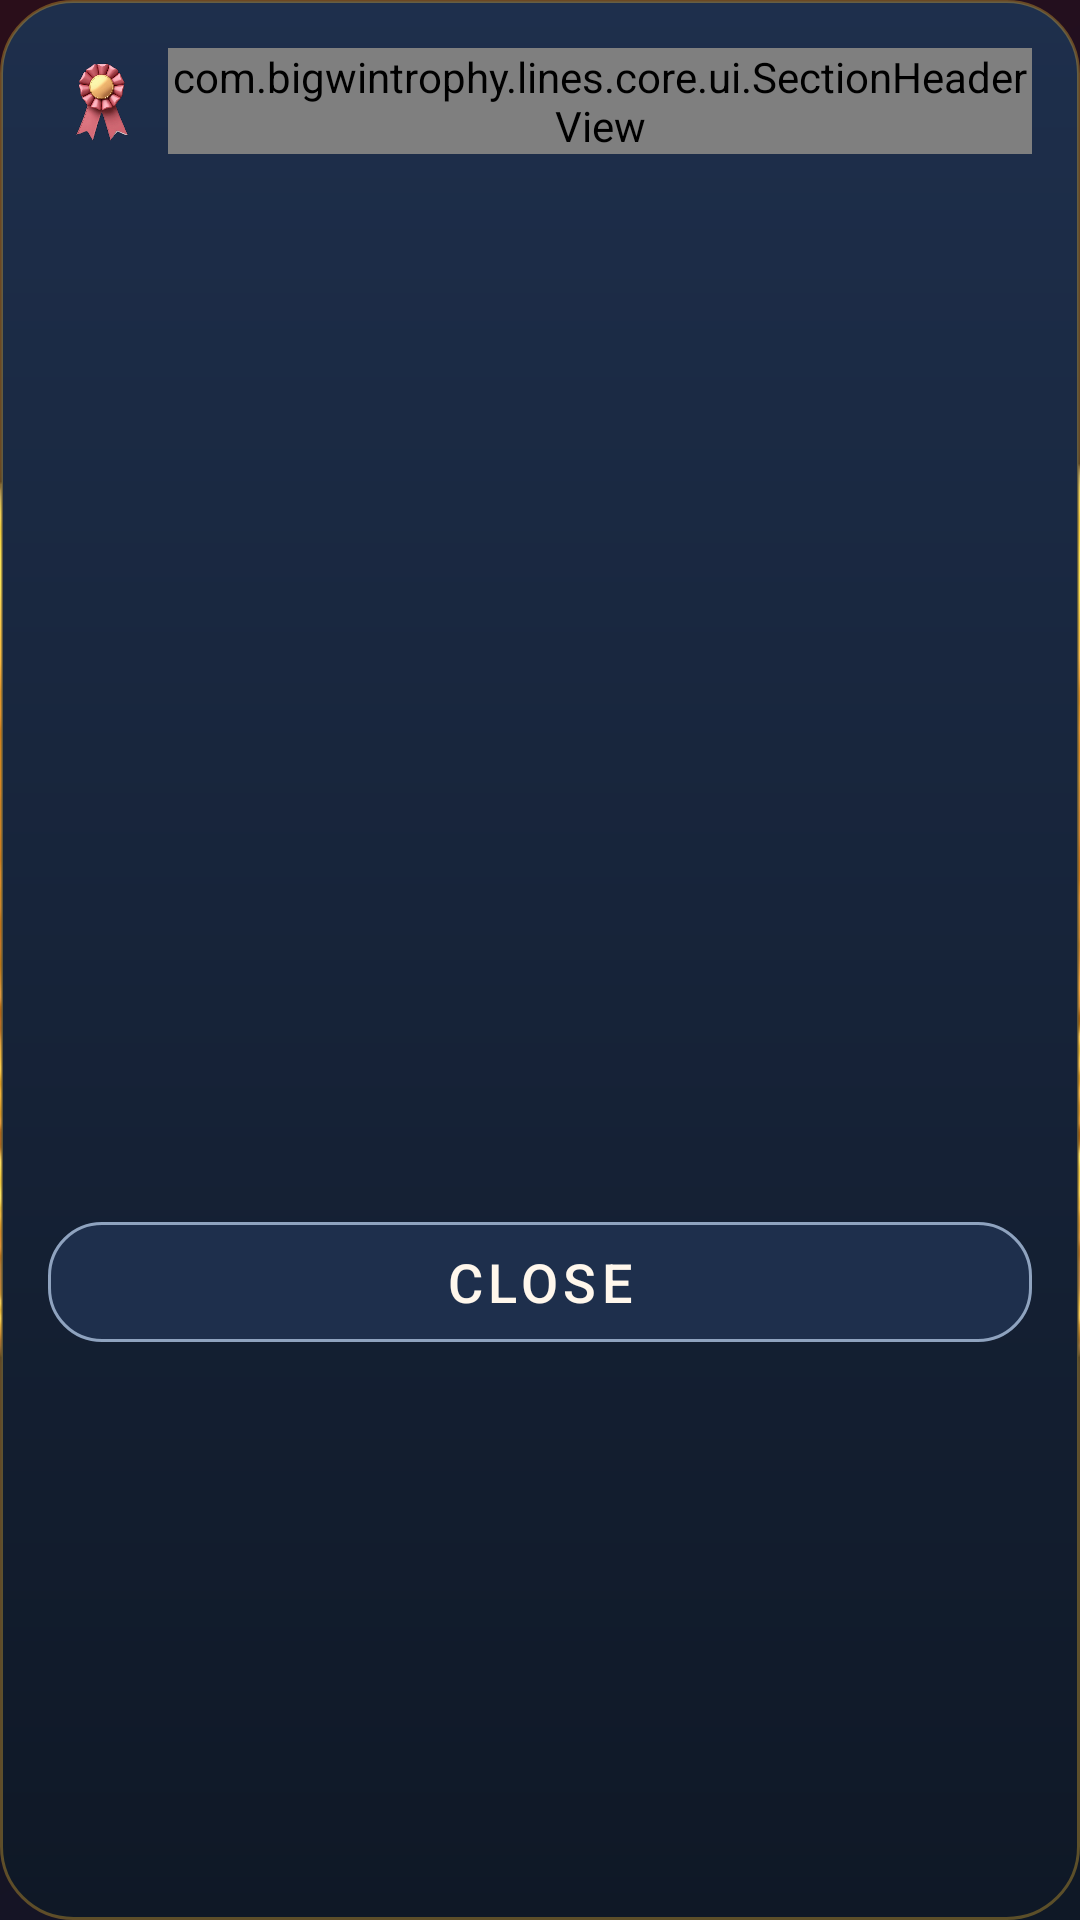

Locate icon controls on the screen. Image size 1080*1920, boxes as (x1, y1, x2, y2).
Rose ribbon: (76, 63, 128, 140)
